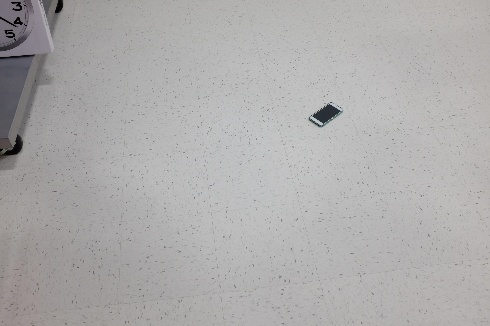phone: (302, 97, 351, 129)
